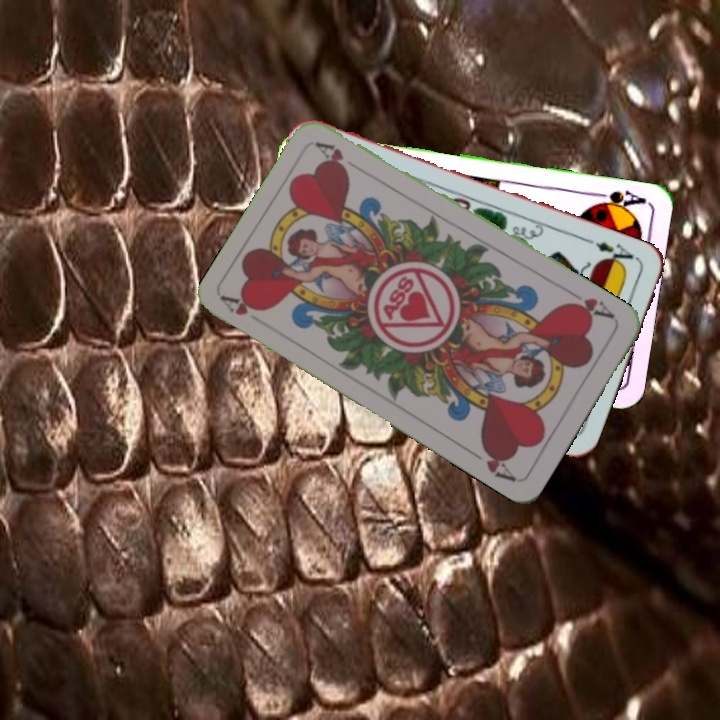EA: (591, 237, 641, 271)
HA: (561, 286, 618, 322), (219, 292, 266, 318)
SA: (587, 186, 648, 215)
